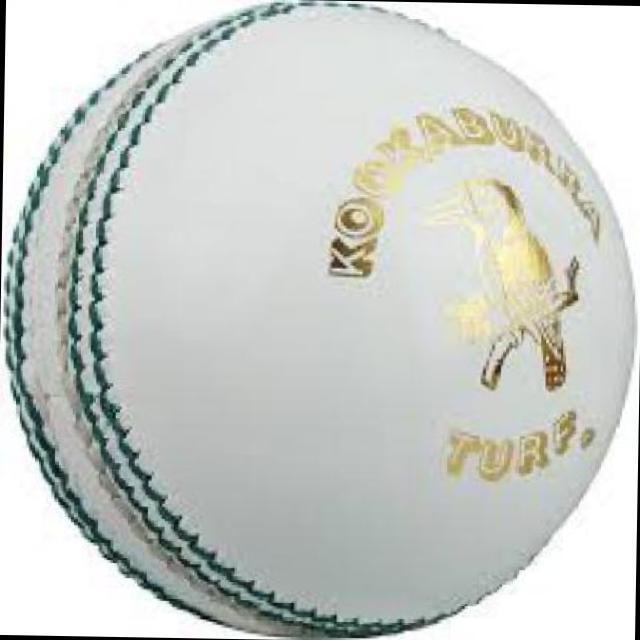-: (20, 11, 635, 626)
